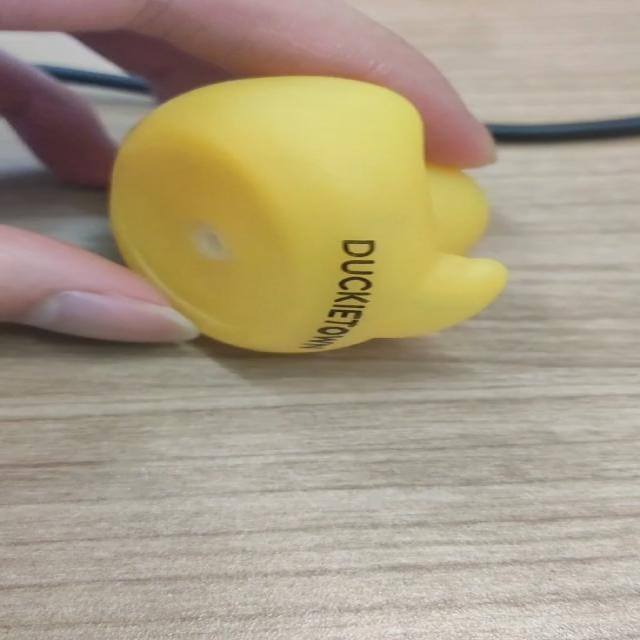rubber-duck: (109, 75, 505, 350)
